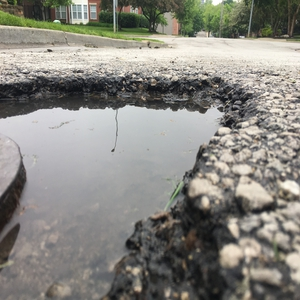pothole: (1, 71, 235, 300)
